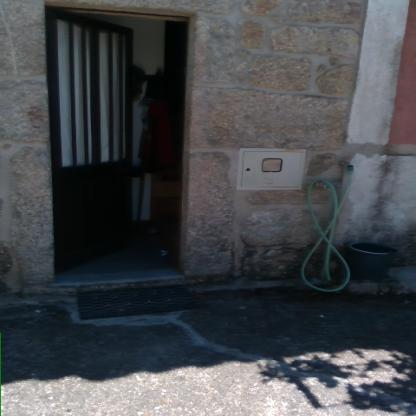semi: (34, 2, 222, 292)
